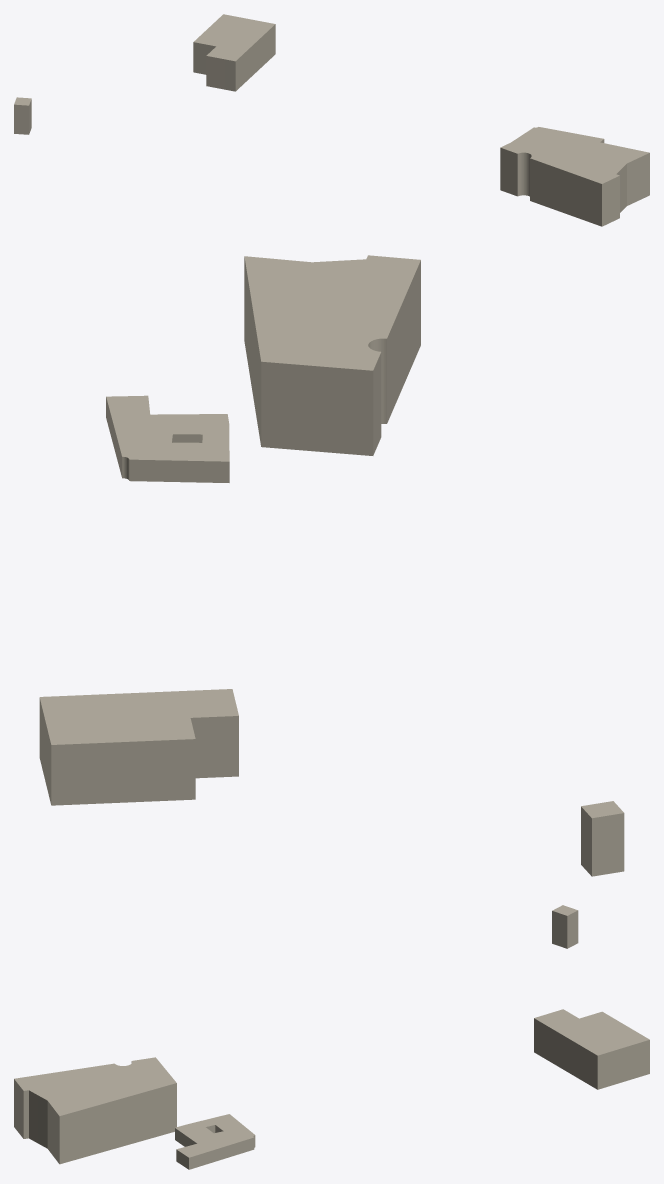
Rendered from birgu_59_24_collision.glb.
The picture shows the model from 3 angles, top to bottom: view 1: azimuth 30°, elevation 25°; view 2: azimuth 150°, elevation 25°; view 3: azimuth 270°, elevation 25°; orthographic projection. The views are drawn at different scales.
Visible parts, largest first — view 1: geometry_0; view 2: geometry_0; view 3: geometry_0.
Part boxes in pixels (x1=…): geometry_0: x1=14, y1=14, x2=649, y2=226; geometry_0: x1=39, y1=255, x2=624, y2=876; geometry_0: x1=14, y1=905, x2=649, y2=1169.
Bounding box in the file's own units: 154 × 15.11 × 177.
